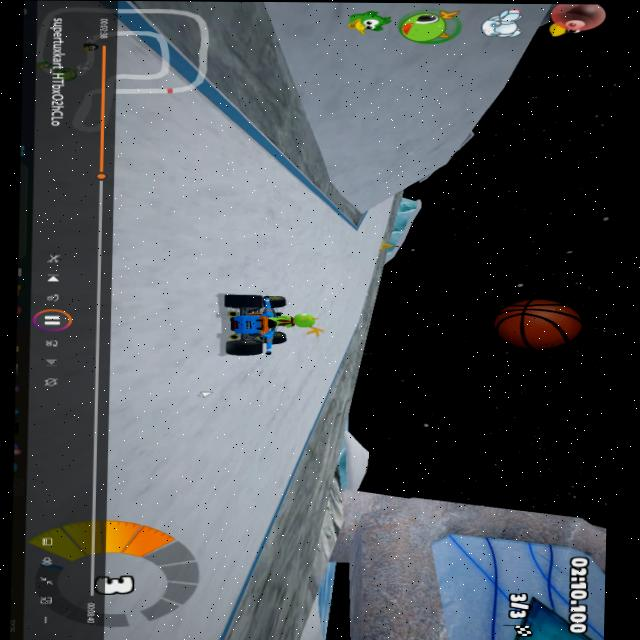obstacle: (371, 234, 395, 258)
player_kart: (221, 289, 315, 362)
track: (101, 96, 211, 640), (201, 364, 311, 474), (207, 198, 317, 288), (201, 475, 283, 553), (199, 553, 251, 640), (321, 232, 369, 326), (210, 143, 263, 199), (314, 327, 354, 376), (264, 170, 298, 198), (360, 210, 398, 231), (319, 220, 348, 234), (381, 197, 394, 209), (321, 208, 336, 218)
